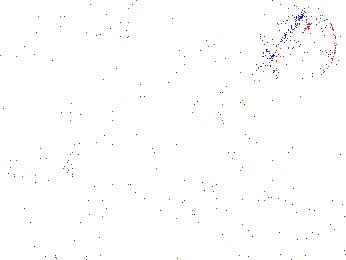moon jellyfish: (172, 27, 302, 110), (158, 111, 248, 195), (1, 128, 78, 191), (270, 12, 336, 83), (184, 8, 273, 40)
